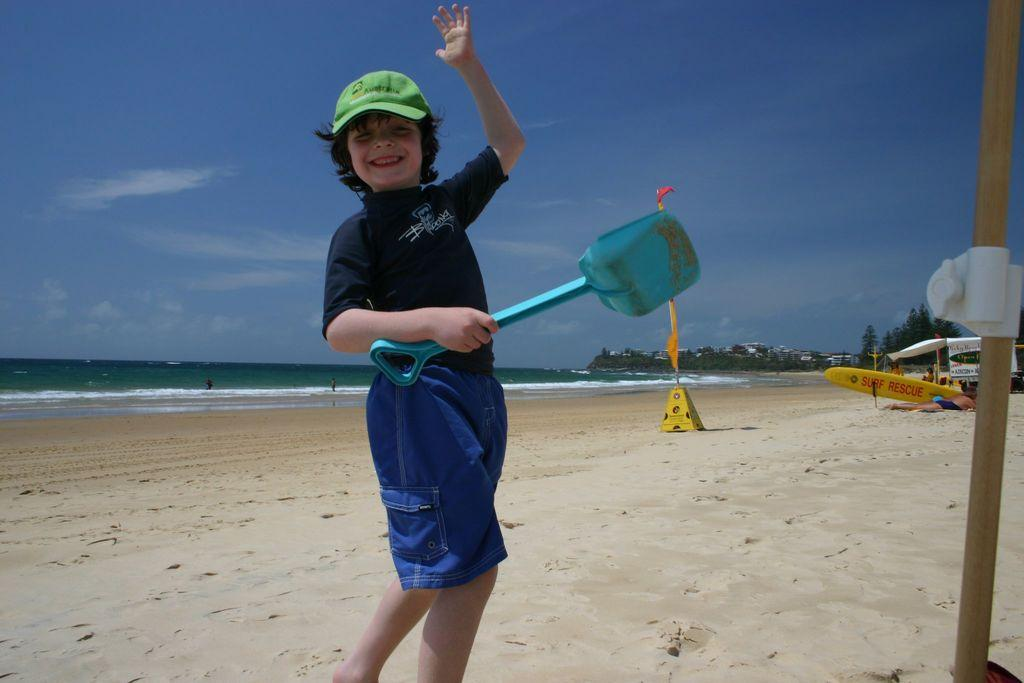Hat: (326, 68, 434, 136)
